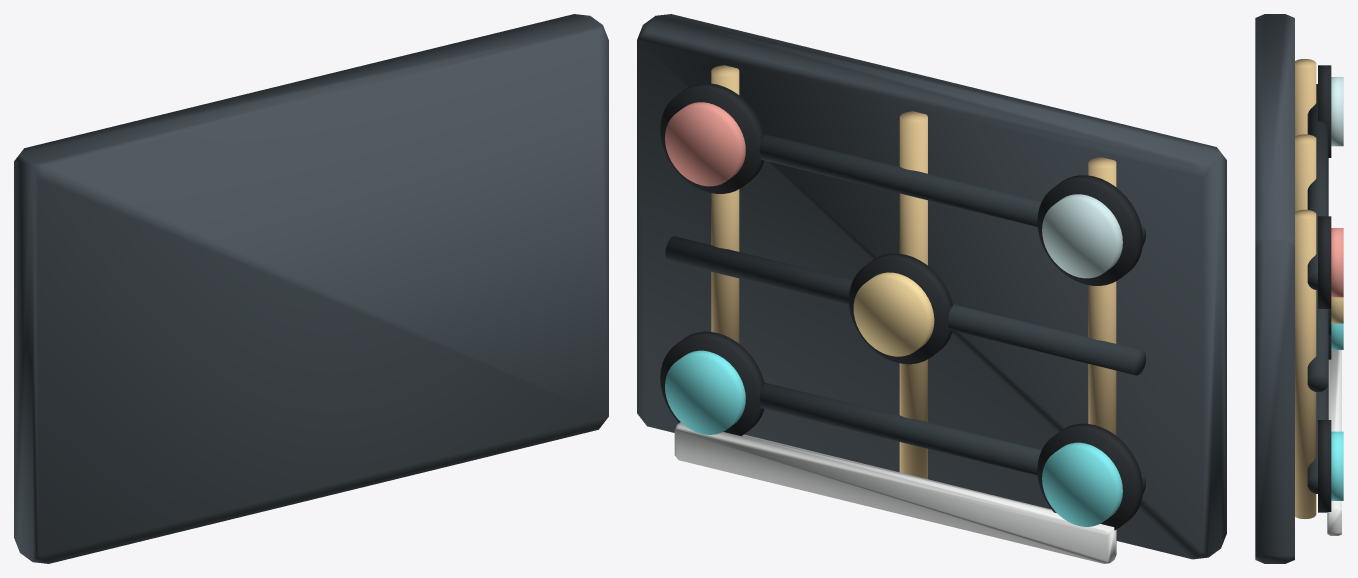
Rendered from room_l5_v4_wall_pipe_manifold.glb.
3 renders of one model, left to right at view 1: azimuth 30°, elevation 25°; view 2: azimuth 150°, elevation 25°; view 3: azimuth 270°, elevation 25°, orthographic. The views are drawn at different scales.
Parts seen in each view (by area): view 1: recessed_back_panel; view 2: recessed_back_panel, bottom_label_plate, horizontal_graphite_bus_0.62, horizontal_graphite_bus_0.96, horizontal_graphite_bus_0.28, vertical_brass_pipe_0, lit_valve_lens_1, lit_valve_lens_0, lit_valve_lens_4, lit_valve_lens_2, lit_valve_lens_3, vertical_brass_pipe_0.54 (+6 smaller); view 3: recessed_back_panel, vertical_brass_pipe_0.54, horizontal_graphite_bus_0.96, bottom_label_plate, vertical_brass_pipe_-0.54, vertical_brass_pipe_0, horizontal_graphite_bus_0.62, black_valve_collar_2, black_valve_collar_4, black_valve_collar_3, lit_valve_lens_2, lit_valve_lens_3 (+4 smaller).
Part boxes in pixels (x1,y1,x2,y2): recessed_back_panel: (14,14,608,563); recessed_back_panel: (637,14,1226,559); bottom_label_plate: (674,422,1116,563); horizontal_graphite_bus_0.62: (665,236,1146,375); horizontal_graphite_bus_0.96: (759,134,1145,246); horizontal_graphite_bus_0.28: (759,382,1145,494); vertical_brass_pipe_0: (899,111,927,479); lit_valve_lens_1: (853,272,934,356); lit_valve_lens_0: (1042,442,1122,526); lit_valve_lens_4: (665,350,745,434); lit_valve_lens_2: (665,102,745,186); lit_valve_lens_3: (1042,194,1122,278); vertical_brass_pipe_0.54: (711,65,739,343); recessed_back_panel: (1255,14,1294,563); vertical_brass_pipe_0.54: (1295,209,1316,518); horizontal_graphite_bus_0.96: (1307,84,1328,290); bottom_label_plate: (1327,350,1341,535); vertical_brass_pipe_-0.54: (1295,59,1316,136); vertical_brass_pipe_0: (1295,134,1316,211); horizontal_graphite_bus_0.62: (1307,290,1328,392); black_valve_collar_2: (1318,216,1331,308); black_valve_collar_4: (1318,420,1331,512); black_valve_collar_3: (1318,65,1331,157); lit_valve_lens_2: (1331,228,1343,297); lit_valve_lens_3: (1331,77,1343,146).
Size of the model in its own units: 1.62 by 1.08 by 0.2675.
